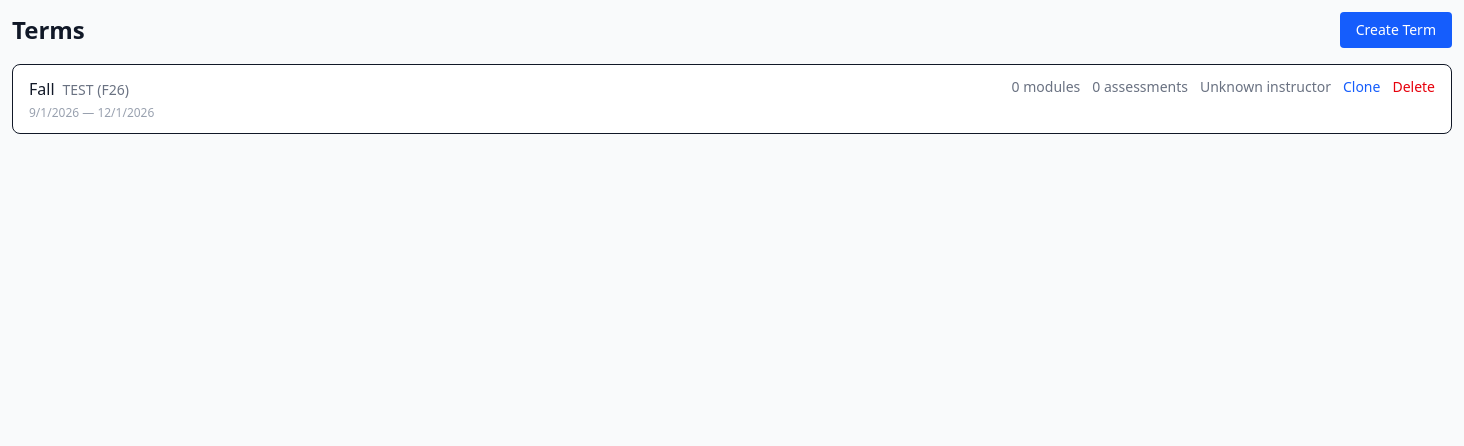
it: legacy page loading › defaults the instructor once and preserves edits through a list refresh
Expected: the text "Fall" is shown, top-left (29, 78), bottom-right (54, 100)
Click the button "Create Term" at (1396, 30), box top-left (1340, 12), bottom-right (1452, 48)
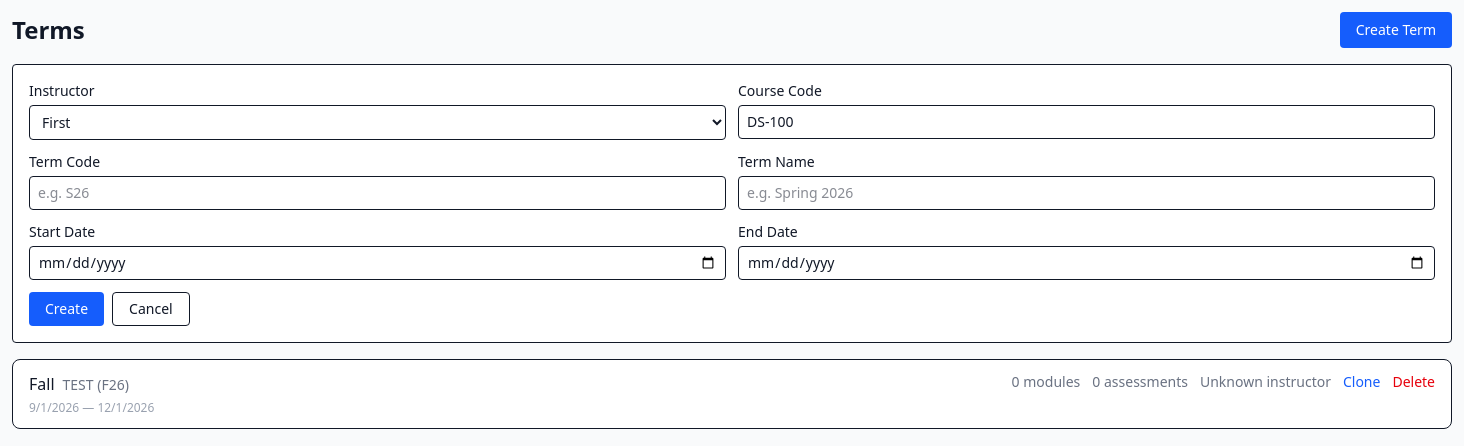
Expected: the dropdown shows "First"
Select "Second" in the dropdown at (378, 122), box top-left (29, 105), bottom-right (726, 140)
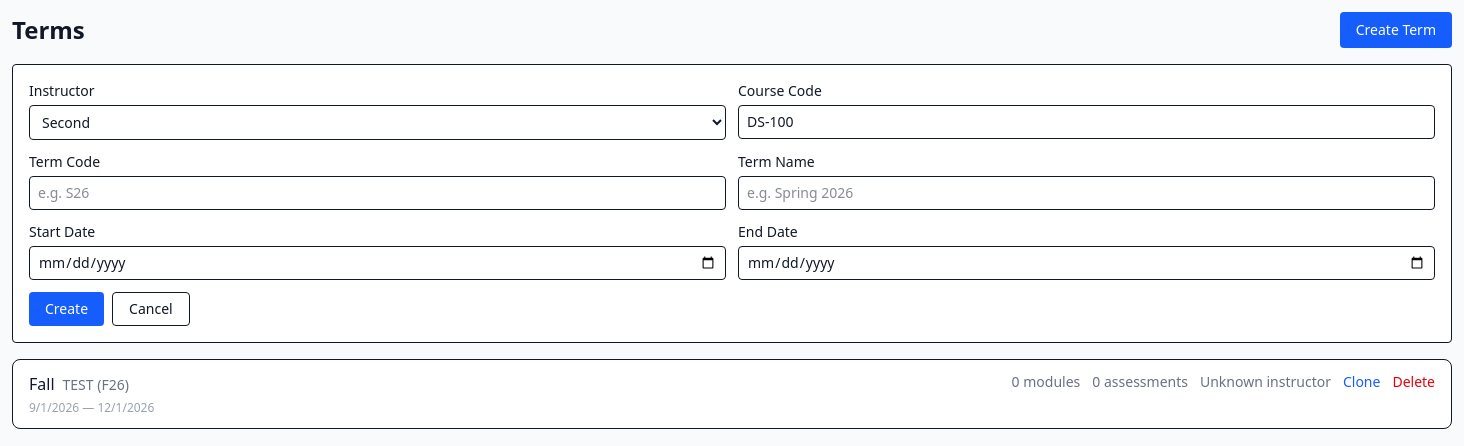
Click the button "Delete" at (1414, 382), box top-left (1392, 372), bottom-right (1435, 392)
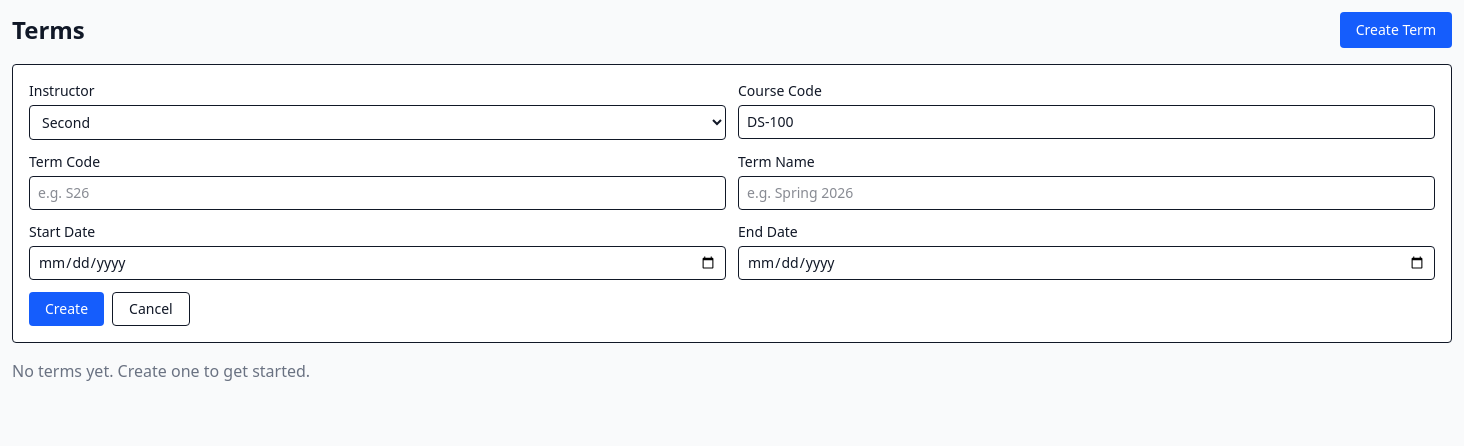
Expected: the link "Fall" is gone
